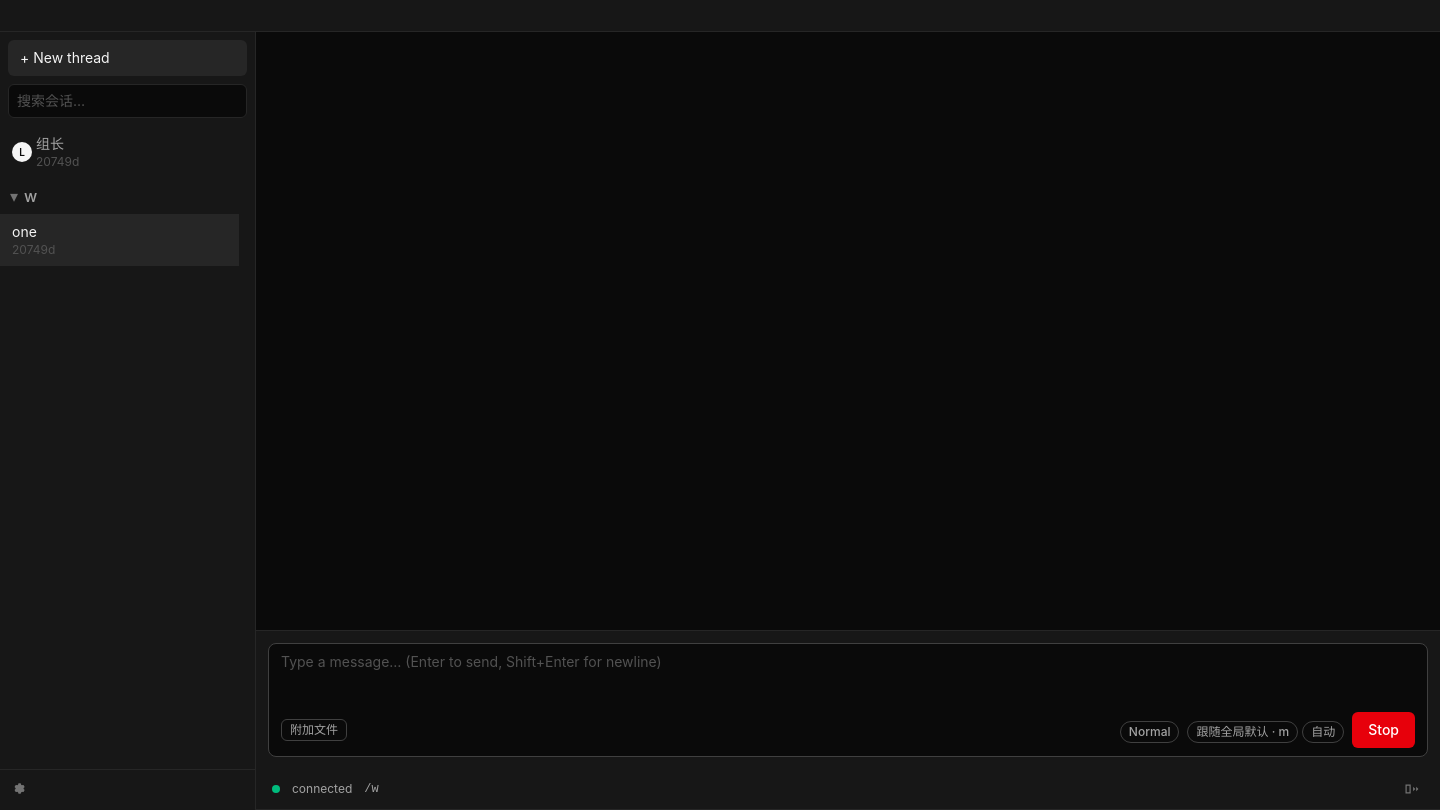
it: App YOLO wiring › drops a stale Stop when the server answers that nothing was running
Step 1. Click the button "Stop" → (1384,730), box [1352,712,1415,748]
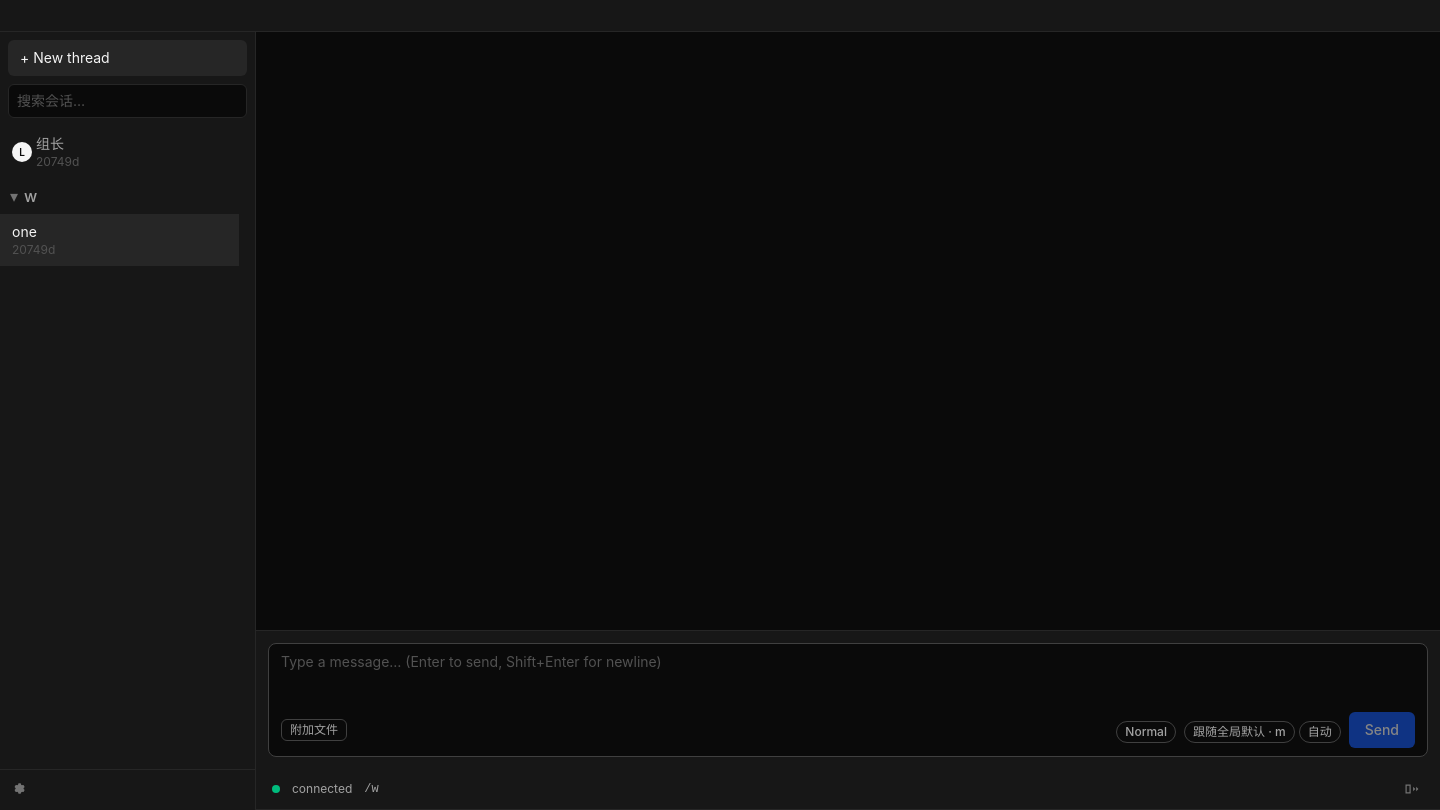
Expected: the button "Send" is shown, [1349,712,1415,748]
